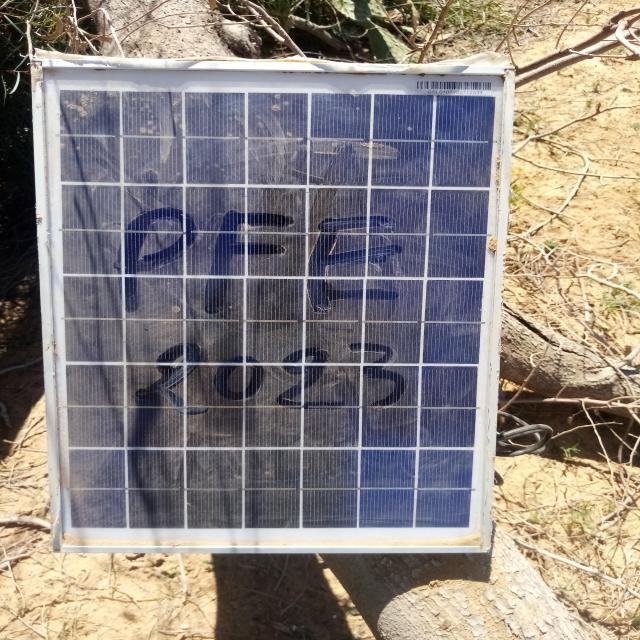faulty: (37, 62, 509, 549)
